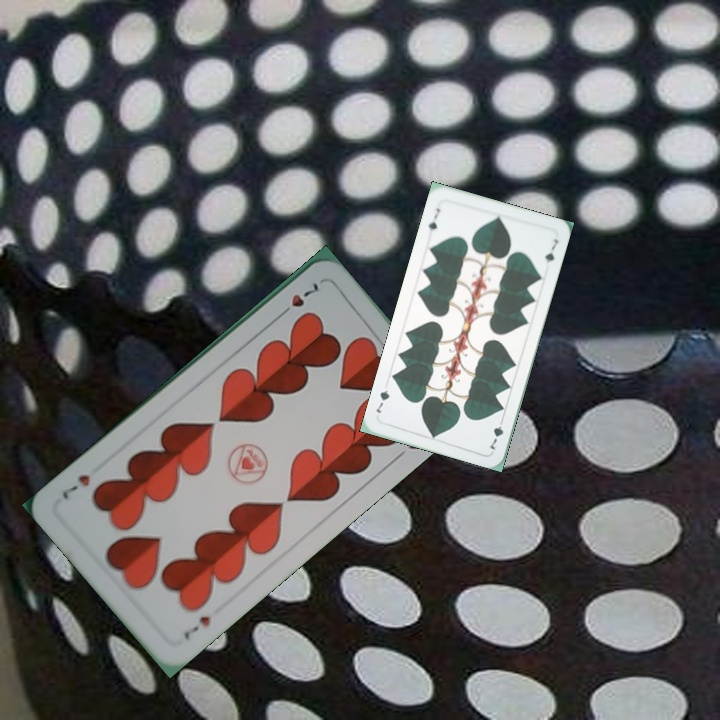G7: (485, 413, 506, 453), (424, 204, 443, 233)
H7: (274, 278, 322, 321), (179, 611, 214, 642)
